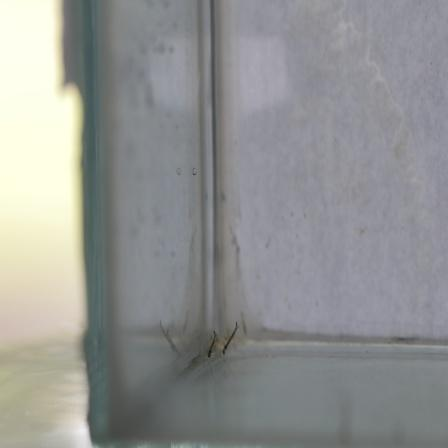Jentik-Nyamuk: (219, 320, 241, 358), (204, 328, 219, 363)
